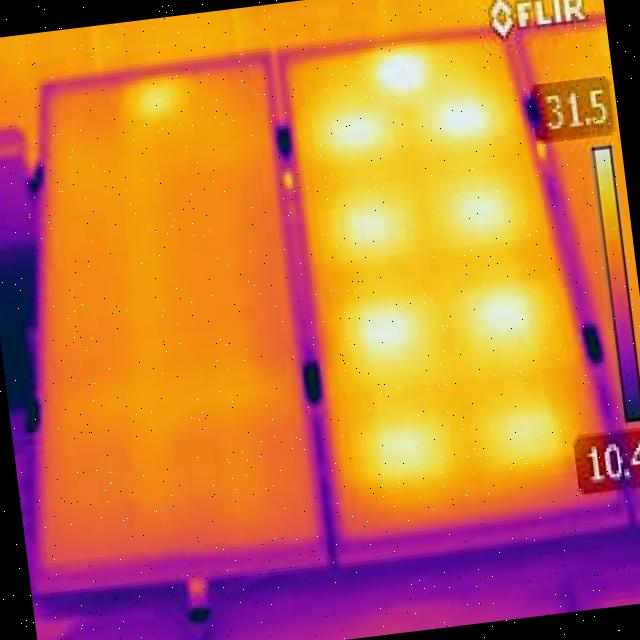Hotspot: (482, 387, 576, 489), (344, 289, 434, 389), (451, 272, 544, 365), (362, 408, 453, 493), (328, 184, 422, 264), (108, 62, 203, 138), (438, 172, 524, 254), (308, 91, 400, 157), (424, 82, 502, 145), (375, 44, 436, 106)
